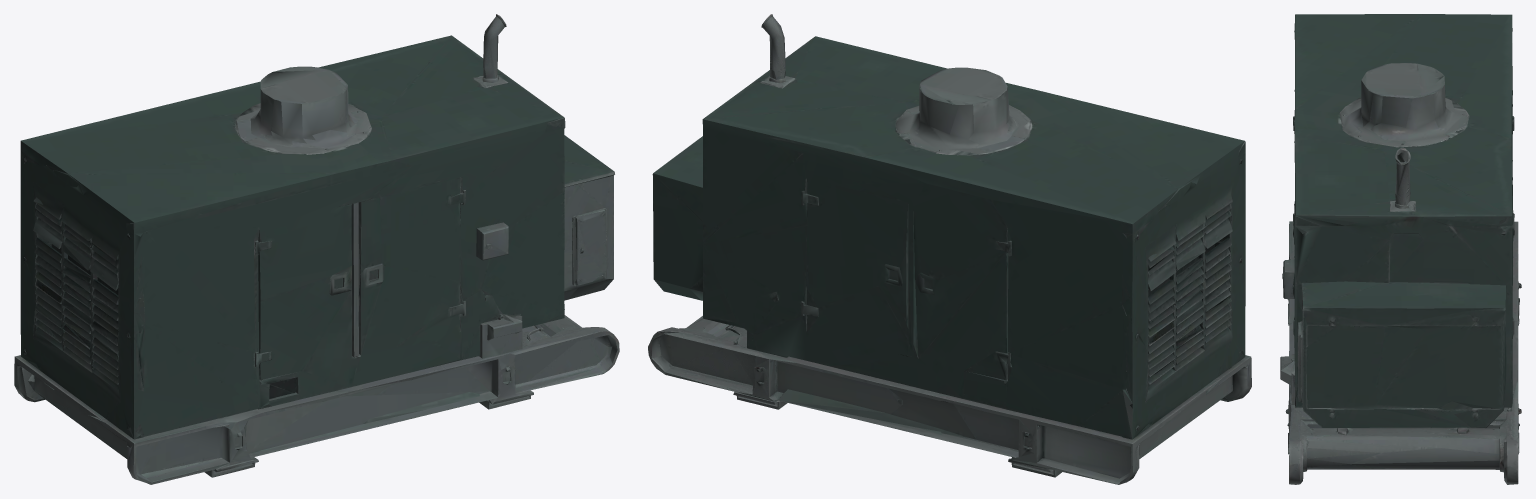
The model's file is generator-v1.glb.
3 views of the same model, side by side, from view 1: azimuth 30°, elevation 25°; view 2: azimuth 150°, elevation 25°; view 3: azimuth 270°, elevation 25° (orthographic). The views are drawn at different scales.
Size of the model in its own units: 3.2 by 2.12 by 1.43.
Materials: 1 (1 with a texture image).
